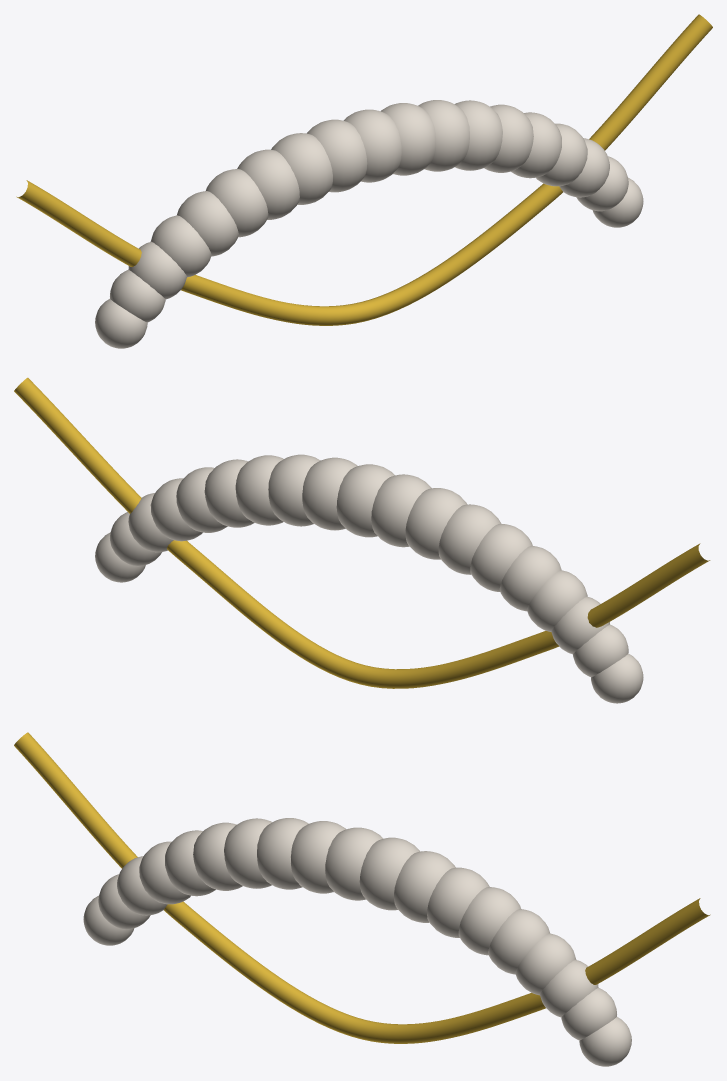
Rendered from zahra-bridal-matha-patti.glb.
3 renders of one model, top to bottom at view 1: azimuth 30°, elevation 25°; view 2: azimuth 150°, elevation 25°; view 3: azimuth 330°, elevation 25°, orthographic.
Parts seen in each view (by area): view 1: pearl (×19), chain; view 2: pearl (×19), chain; view 3: pearl (×19), chain.
Part boxes in pixels (x1,y1,x2,y2): pearl (×19): (95, 100, 643, 348); chain: (16, 14, 712, 325); pearl (×19): (95, 454, 643, 703); chain: (14, 377, 710, 688); pearl (×19): (83, 818, 631, 1066); chain: (14, 732, 710, 1043).
Size of the model in its own units: 2.74 by 0.8409 by 0.25.
